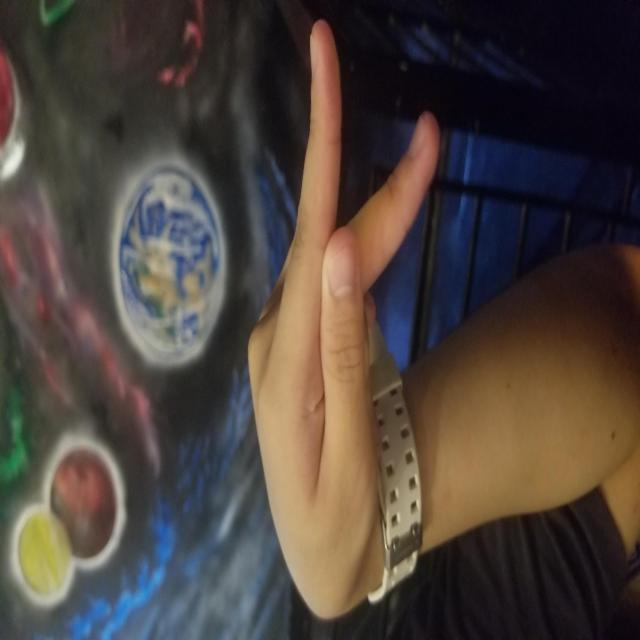P: (18, 244, 619, 439)
